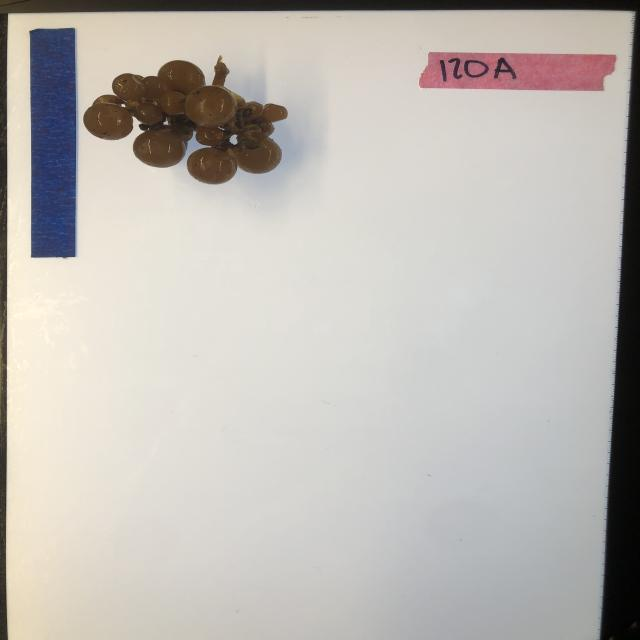grape_cluster: (86, 54, 291, 188)
index: (417, 50, 618, 94)
measure_label: (28, 27, 80, 259)
